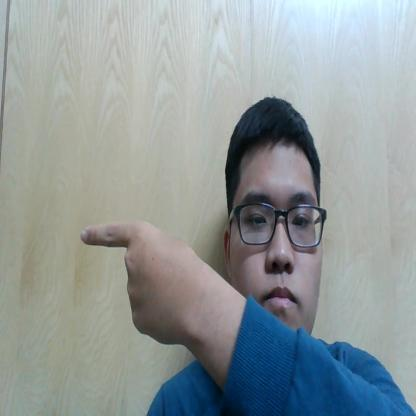right: (79, 214, 217, 380)
